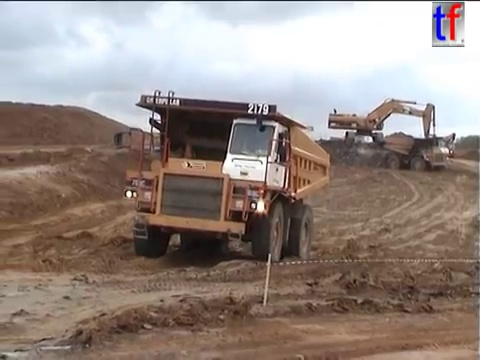excavator: (324, 97, 440, 154), (423, 132, 457, 159)
truck: (111, 87, 332, 265), (212, 122, 316, 185), (375, 133, 450, 173)
